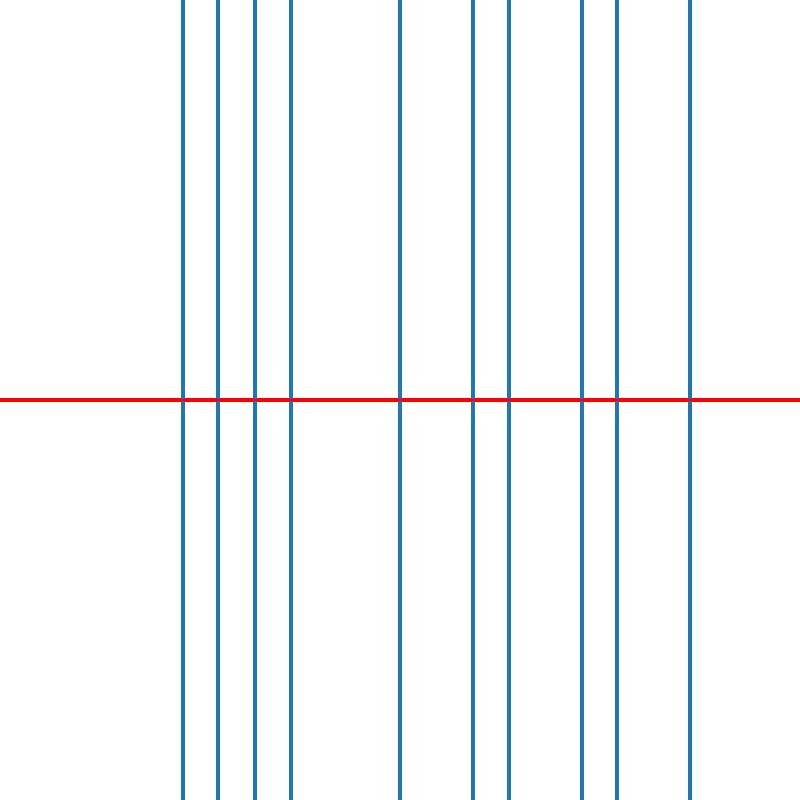root: (250, 396, 258, 404), (614, 396, 621, 404), (687, 396, 694, 404), (214, 396, 221, 404), (505, 396, 512, 404), (178, 396, 185, 404), (287, 396, 294, 404), (578, 396, 585, 404), (396, 396, 403, 404), (469, 396, 476, 404)
